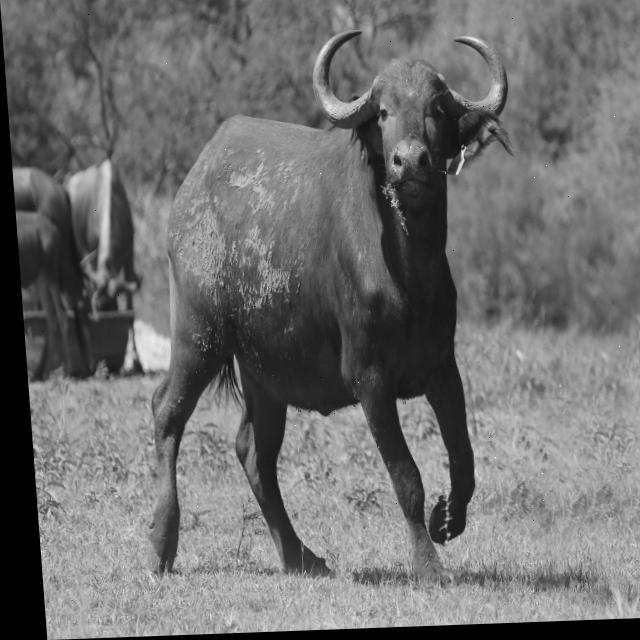Buffalo: (111, 28, 544, 596)
